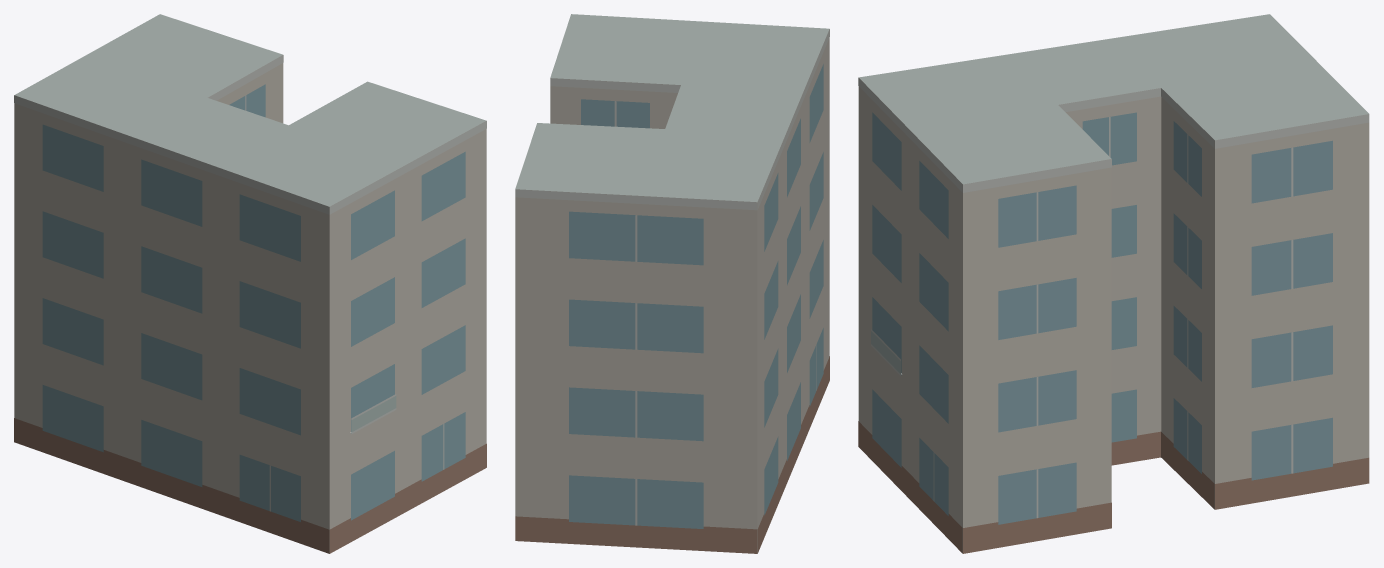
File: survey-upis-32675408.glb
The picture shows the model from 3 angles, left to right: view 1: azimuth 30°, elevation 25°; view 2: azimuth 150°, elevation 25°; view 3: azimuth 270°, elevation 25°; orthographic projection. The views are drawn at different scales.
Parts seen in each view (by area): view 1: survey-upis-32675408.tmp; view 2: survey-upis-32675408.tmp; view 3: survey-upis-32675408.tmp.
Boxes of the visible parts, x1,y1,x2,y2 form: survey-upis-32675408.tmp: (14,14,486,553); survey-upis-32675408.tmp: (515,14,829,553); survey-upis-32675408.tmp: (858,14,1369,553).
Bounding box in the file's own units: 10.45 × 10.55 × 13.23.
